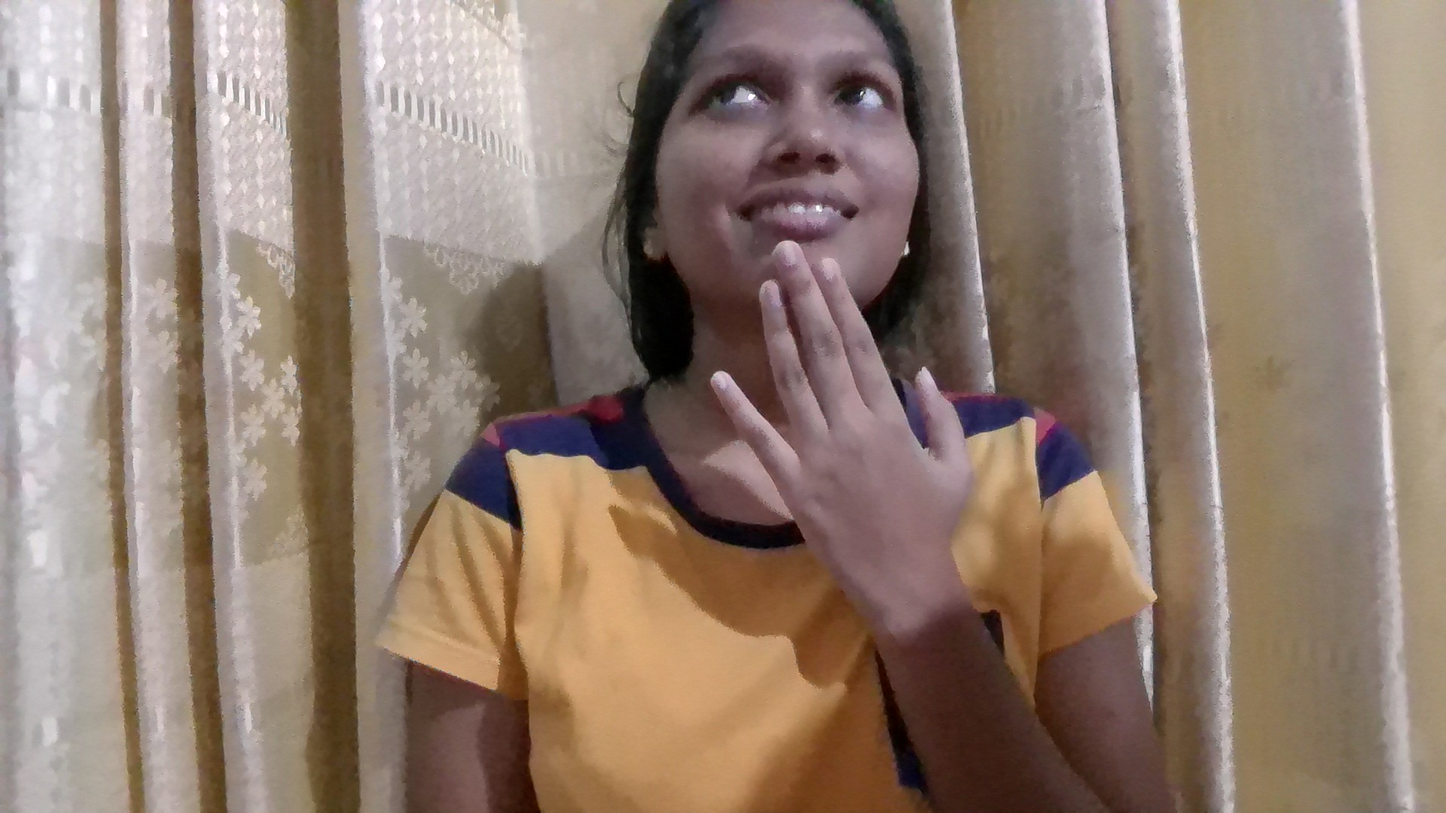Thank You: (659, 260, 1067, 624)
